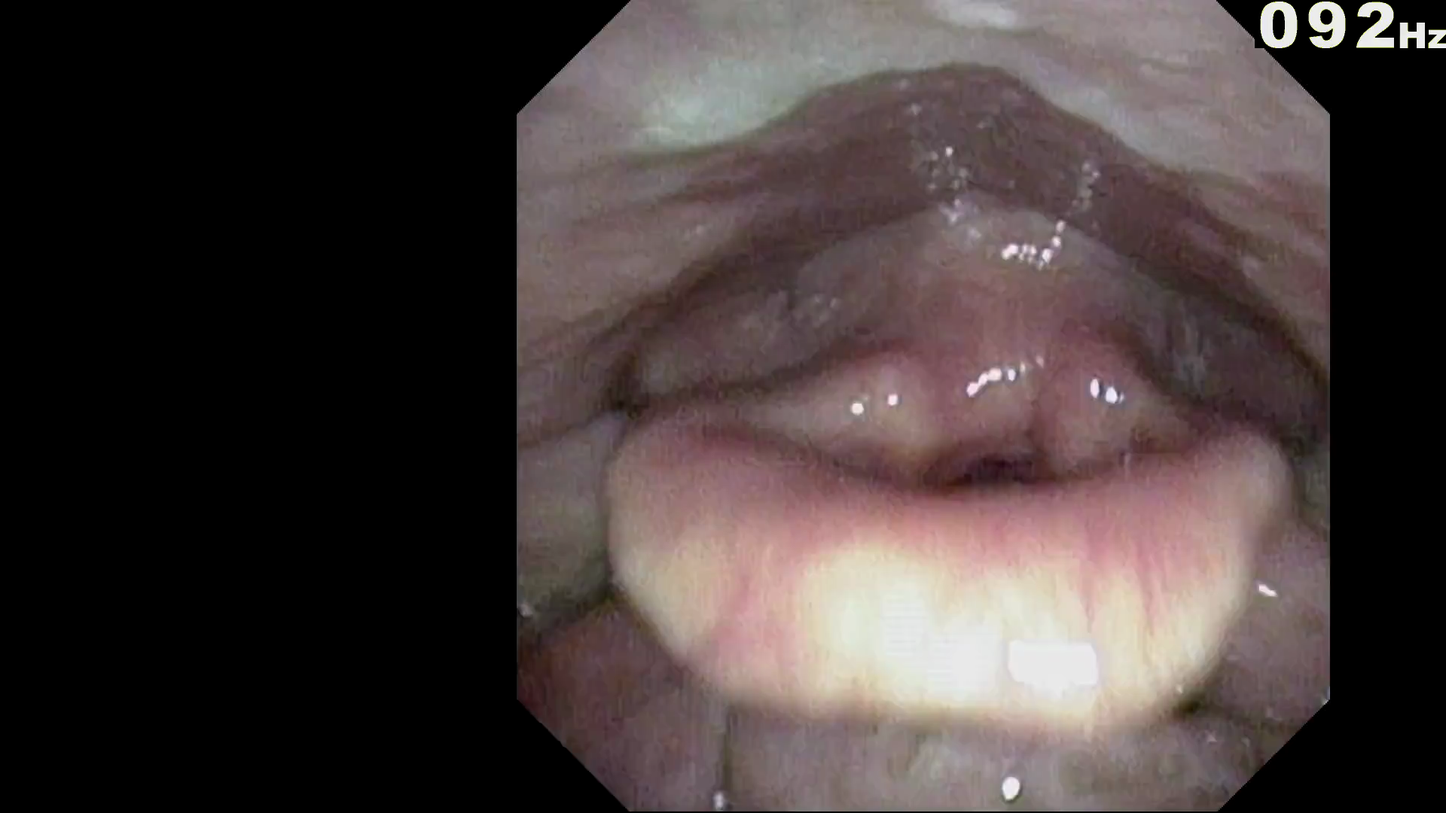epiglottis: (612, 356, 1225, 599)
